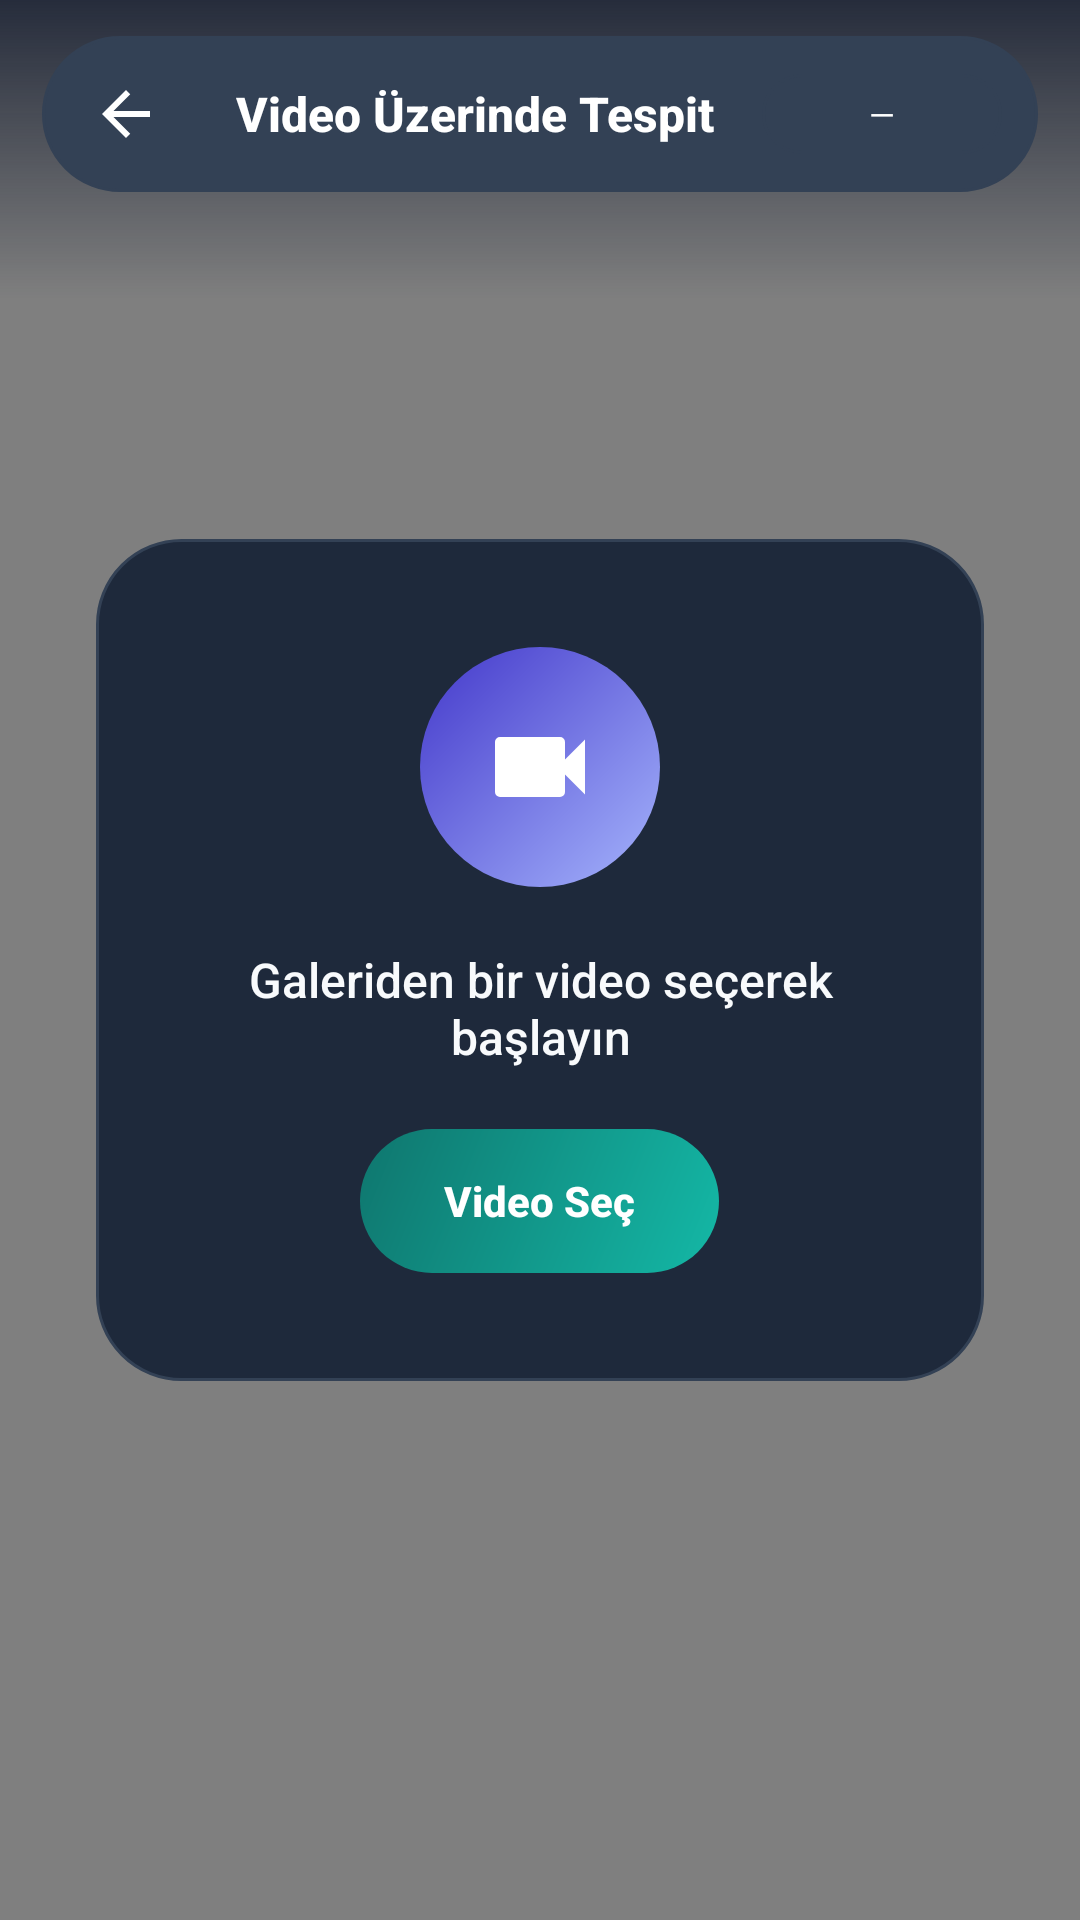

Icons on this 1080×1920 Android screen, each with its box as (x1, y1, x2, y2):
Geri: (102, 90, 150, 138)
